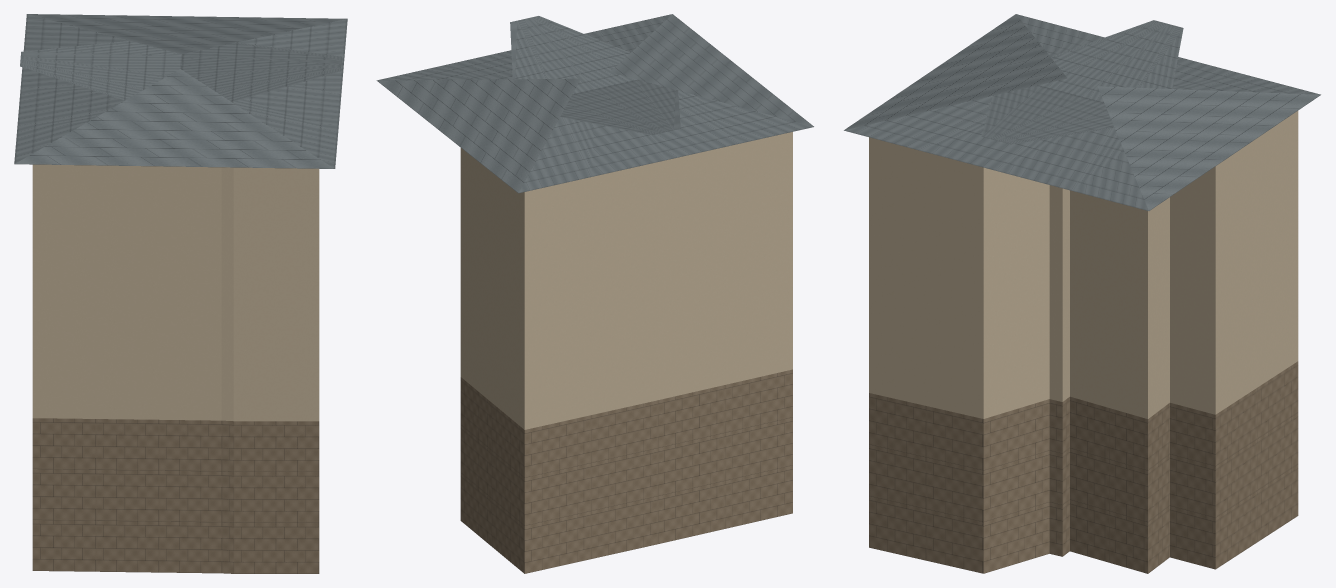
Rendered from bld_c-22_11_541.gltf.
3 renders of one model, left to right at view 1: azimuth 30°, elevation 25°; view 2: azimuth 150°, elevation 25°; view 3: azimuth 270°, elevation 25°, orthographic. The views are drawn at different scales.
Parts seen in each view (by area): view 1: bld_c-22_11_541; view 2: bld_c-22_11_541; view 3: bld_c-22_11_541.
Part boxes in pixels (box(x1,y1,x2,y2)): bld_c-22_11_541: box(14, 14, 347, 573); bld_c-22_11_541: box(376, 14, 813, 573); bld_c-22_11_541: box(844, 14, 1320, 573).
Size of the model in its own units: 13.94 by 14.8 by 14.28.
Materials: 3 (3 with a texture image).
